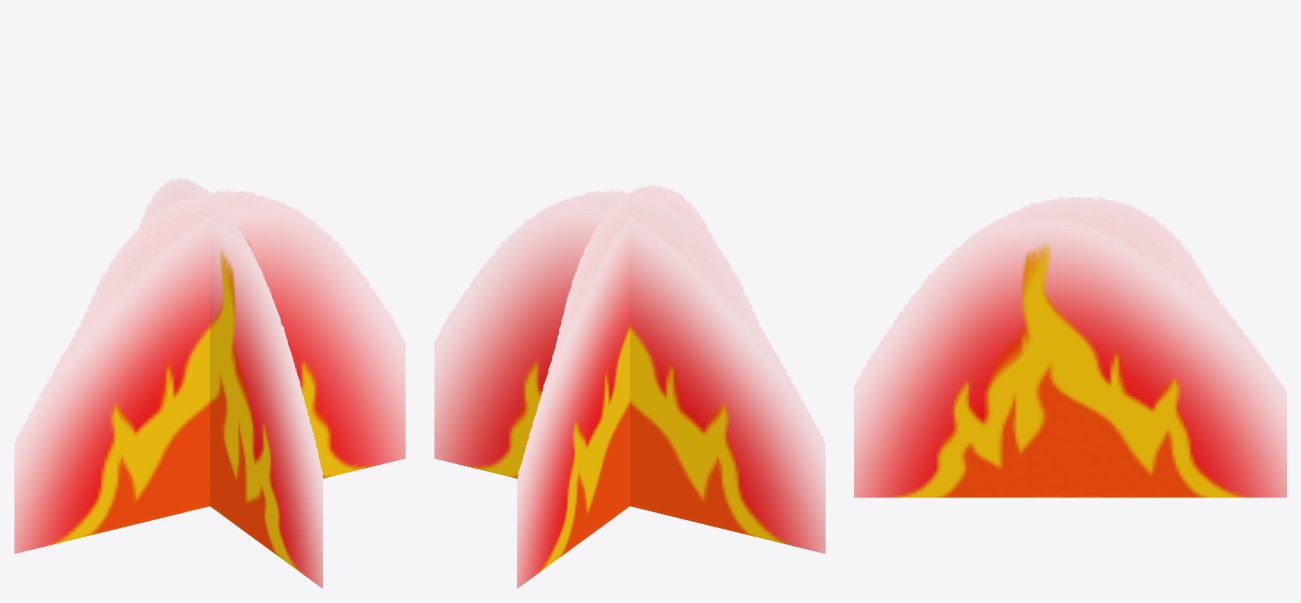
Rendered from para-fire.glb.
3 views of the same model, side by side, from view 1: azimuth 30°, elevation 25°; view 2: azimuth 150°, elevation 25°; view 3: azimuth 270°, elevation 25° (orthographic). The views are drawn at different scales.
Parts seen in each view (by area): view 1: frame_00, frame_01, frame_02; view 2: frame_00, frame_01, frame_02; view 3: frame_00, frame_01, frame_02.
Boxes of the visible parts, bbox=[...] form: frame_00: bbox=[26, 249, 396, 583]; frame_01: bbox=[33, 253, 387, 580]; frame_02: bbox=[47, 257, 372, 573]; frame_00: bbox=[443, 275, 813, 582]; frame_01: bbox=[452, 289, 806, 579]; frame_02: bbox=[467, 360, 792, 573]; frame_00: bbox=[864, 243, 1273, 497]; frame_01: bbox=[874, 245, 1265, 497]; frame_02: bbox=[891, 247, 1249, 496].
Size of the model in its own units: 1 by 1 by 1.
Materials: 1 (1 with a texture image).
